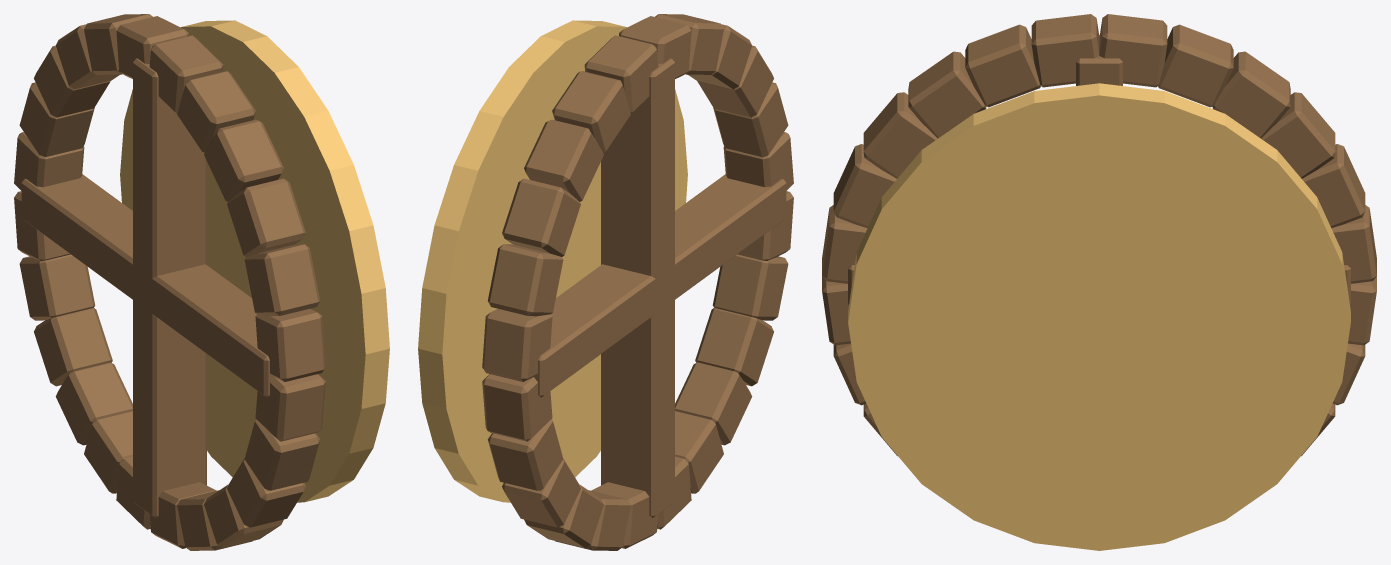
File: SM_WL_WindowRound.fbx
3 renders of one model, left to right at view 1: azimuth 30°, elevation 25°; view 2: azimuth 150°, elevation 25°; view 3: azimuth 270°, elevation 25°, orthographic. The views are drawn at different scales.
Visible parts, largest first — view 1: SM_WL_WindowRound; view 2: SM_WL_WindowRound; view 3: SM_WL_WindowRound.
Boxes of the visible parts, box(x1,y1,x2,y2) form: SM_WL_WindowRound: box(14, 14, 389, 550); SM_WL_WindowRound: box(418, 14, 793, 550); SM_WL_WindowRound: box(822, 14, 1376, 550).
Size of the model in its own units: 0.7725 by 0.205 by 0.7725.
